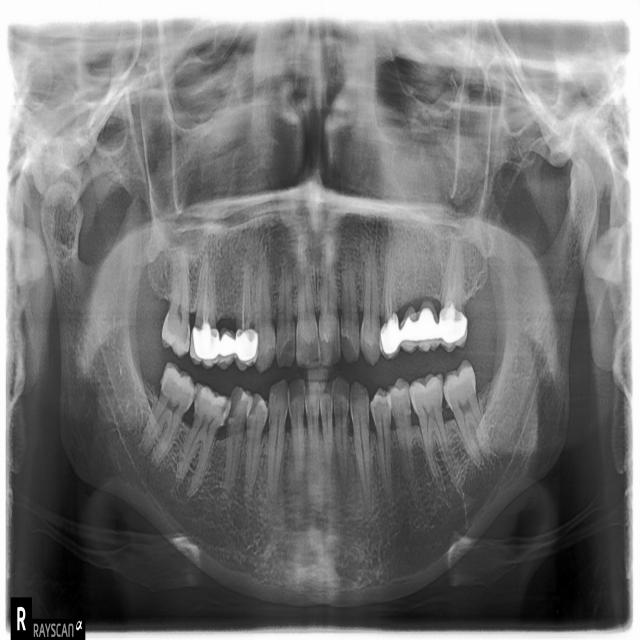mandibula: (40, 153, 599, 605)
